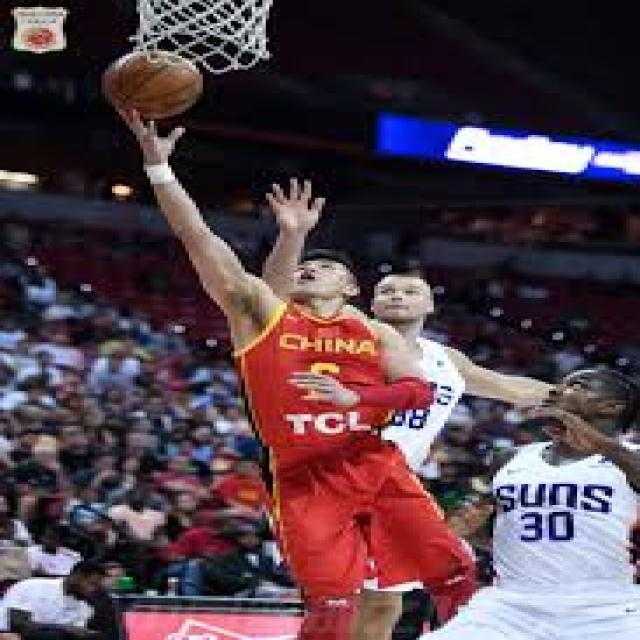rim: (109, 48, 200, 116)
